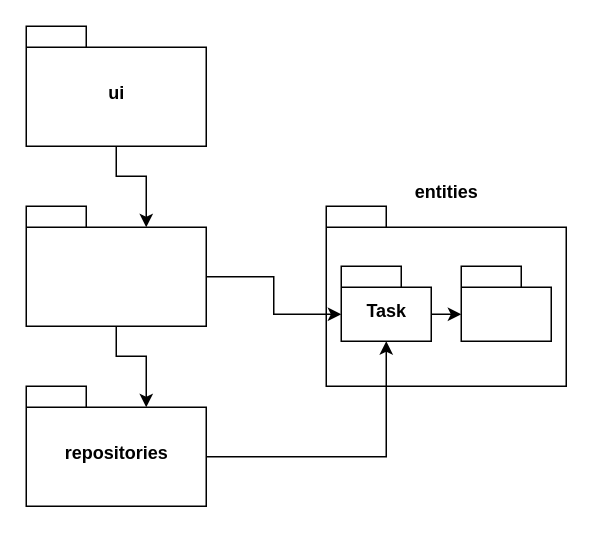
This 593x533 diagram has some shape labels left out. The shapes that lost their labels are listed below. From the top down, each one's centre as x and y in pixels, then its label:
At (115,265): "services".
At (505,303): "Timer".
